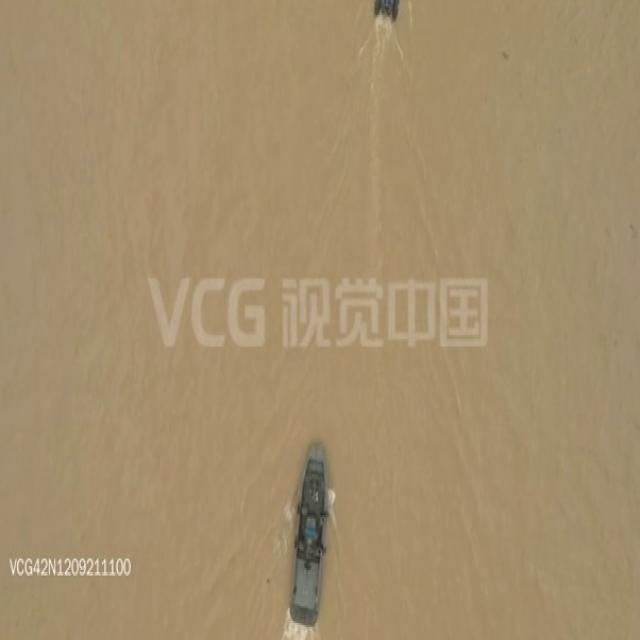houseboat: (289, 428, 331, 626), (372, 0, 403, 19)
